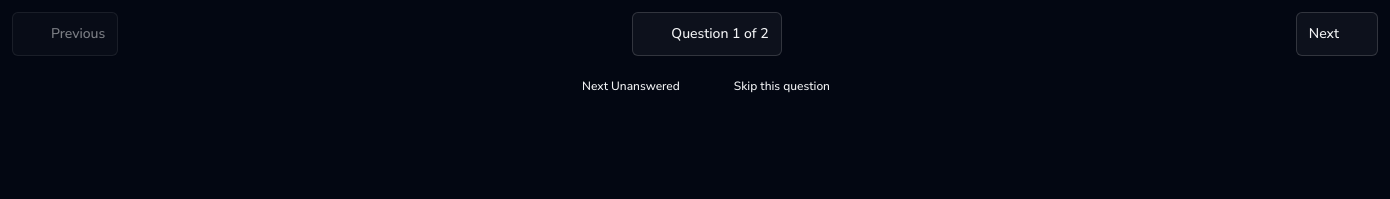
Test: QuestionNavigation - dropdown and getQuestionTitle › getQuestionTitle adds ○ prefix and muted text for unanswered questions
Click the button "Question 1 of 2" at point(707, 34), box [632,12,782,56]
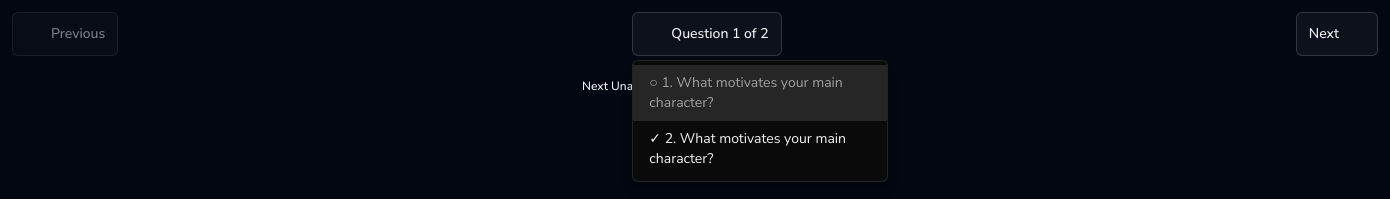
Result: the list item "○ 1. What motivates your main character?" is shown at [633,65,887,121]
